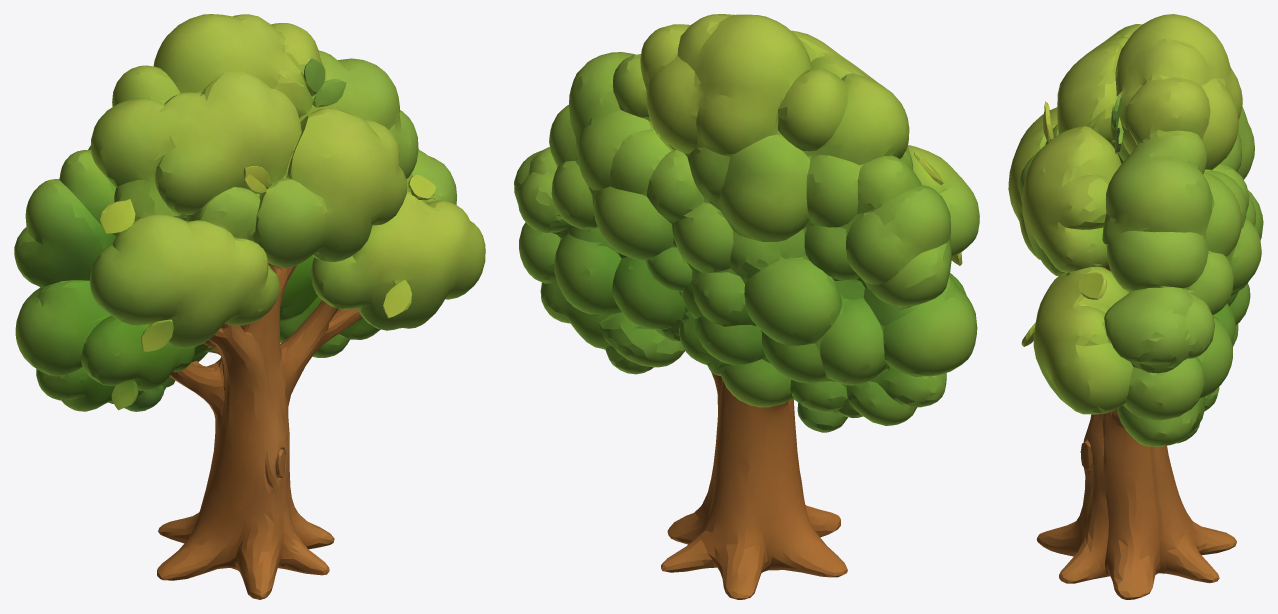
Rendered from tree.glb.
3 renders of one model, left to right at view 1: azimuth 30°, elevation 25°; view 2: azimuth 150°, elevation 25°; view 3: azimuth 270°, elevation 25°, orthographic. The views are drawn at different scales.
Visible parts, largest first — view 1: Mesh; view 2: Mesh; view 3: Mesh.
Part boxes in pixels (x1=…): Mesh: x1=14, y1=14, x2=485, y2=599; Mesh: x1=514, y1=14, x2=979, y2=599; Mesh: x1=1008, y1=14, x2=1263, y2=599.
Bounding box in the file's own units: 1.61 × 1.9 × 0.8225.
1 material, 1 textured.
